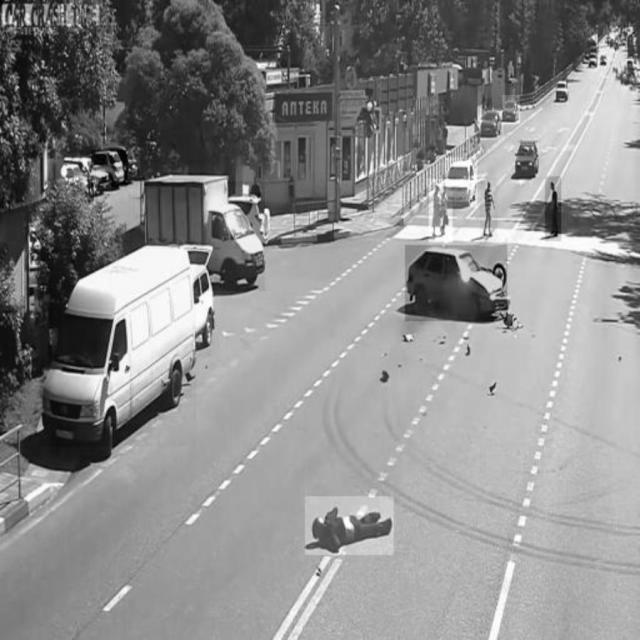person: (305, 496, 393, 554), (429, 179, 453, 243), (480, 178, 497, 246), (545, 177, 561, 241)
vehicle: (40, 249, 196, 446), (145, 181, 265, 291), (405, 245, 507, 321), (445, 158, 479, 208), (510, 140, 542, 182), (92, 150, 128, 187), (480, 108, 504, 140), (553, 77, 573, 104), (502, 95, 520, 123)
